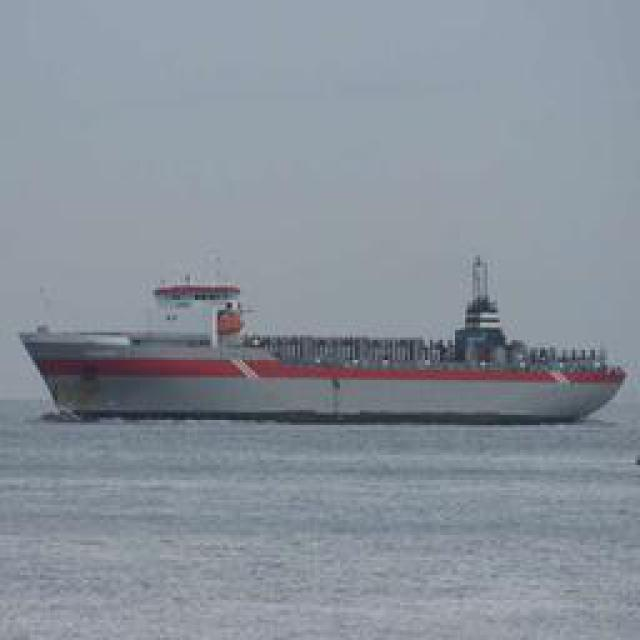Ship: (19, 288, 622, 423)
